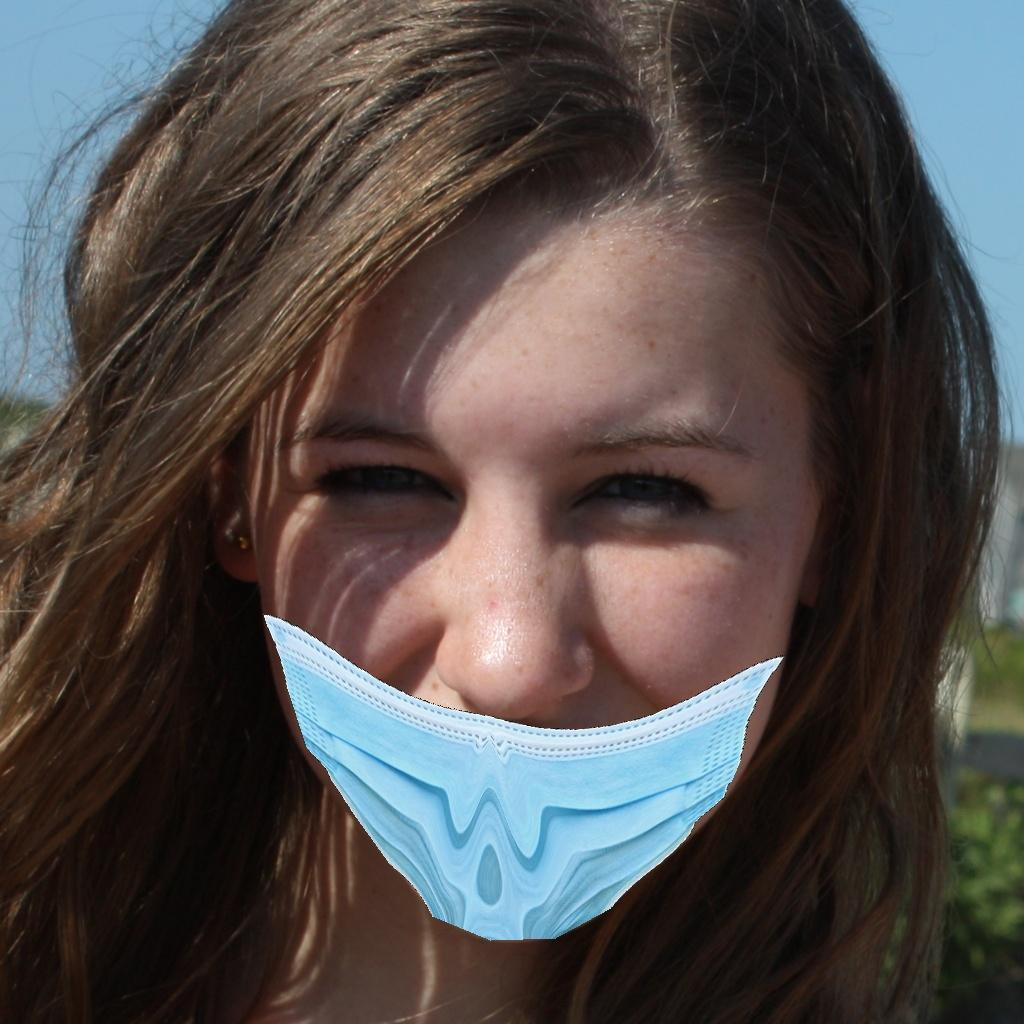Máscara Incorreta: (240, 293, 796, 919)
